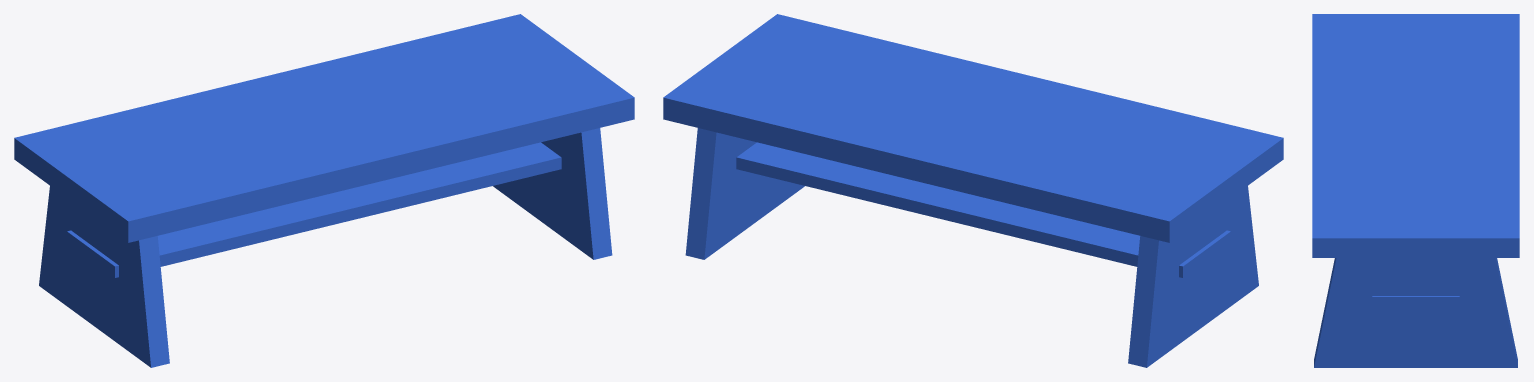
File: Collision_Table_Large.fbx
3 renders of one model, left to right at view 1: azimuth 30°, elevation 25°; view 2: azimuth 150°, elevation 25°; view 3: azimuth 270°, elevation 25°, orthographic. The views are drawn at different scales.
Visible parts, largest first — view 1: UCX_Table_Large_1, UCX_Table_Large_4, UCX_Table_Large_2, UCX_Table_Large_3; view 2: UCX_Table_Large_1, UCX_Table_Large_4, UCX_Table_Large_2, UCX_Table_Large_3; view 3: UCX_Table_Large_1, UCX_Table_Large_3, UCX_Table_Large_4.
Part boxes in pixels (<box>): UCX_Table_Large_1: <box>14,14,634,242</box>; UCX_Table_Large_4: <box>67,142,561,277</box>; UCX_Table_Large_2: <box>39,186,169,367</box>; UCX_Table_Large_3: <box>493,128,612,259</box>; UCX_Table_Large_1: <box>663,14,1283,242</box>; UCX_Table_Large_4: <box>736,142,1230,277</box>; UCX_Table_Large_2: <box>1128,186,1258,367</box>; UCX_Table_Large_3: <box>685,128,804,259</box>; UCX_Table_Large_1: <box>1312,14,1519,257</box>; UCX_Table_Large_3: <box>1314,258,1517,367</box>; UCX_Table_Large_4: <box>1372,296,1459,307</box>.
Bounding box in the file's own units: 286 × 82.63 × 112.
